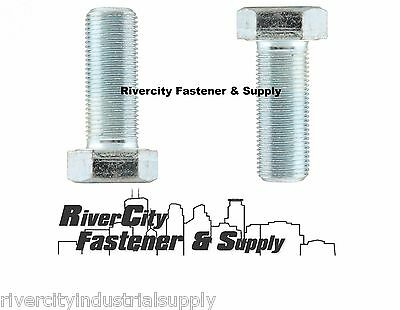hex bolt: (62, 1, 164, 189), (232, 1, 334, 188)
